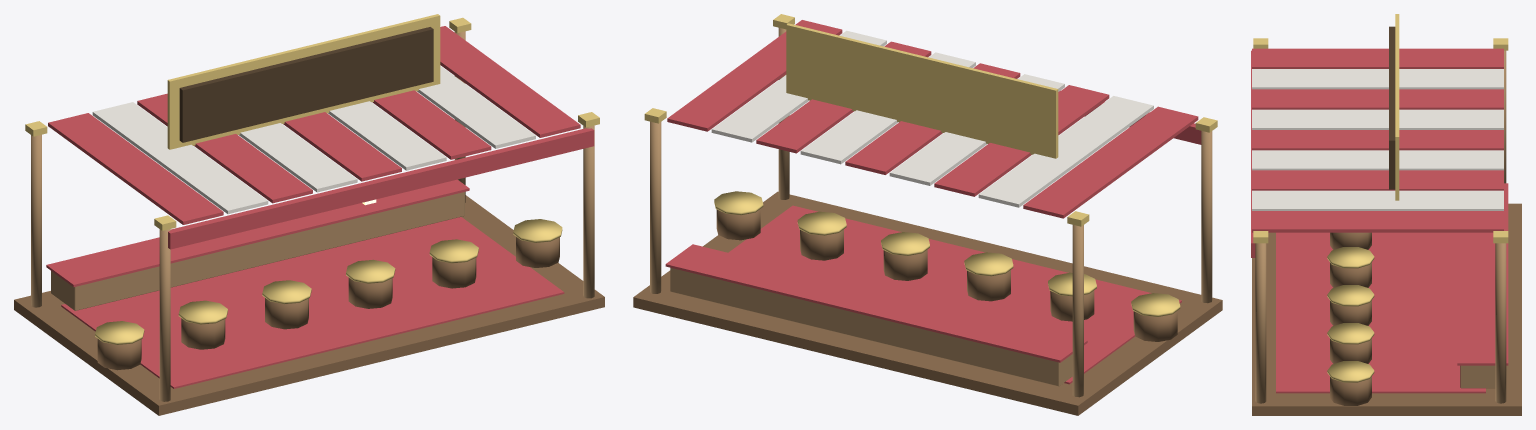
Rendered from VendorStall.glb.
The picture shows the model from 3 angles, left to right: view 1: azimuth 30°, elevation 25°; view 2: azimuth 150°, elevation 25°; view 3: azimuth 270°, elevation 25°; orthographic projection. The views are drawn at different scales.
Visible parts, largest first — view 1: Rug, Floor, Sign, Counter, Valence, Cloth, Stripe, Stripe.001, SignFrame, Stripe.008, Stripe.002, Stripe.007 (+19 smaller); view 2: Floor, SignFrame, Rug, Cloth, Counter, Stripe, Stripe.001, Stripe.008, Stripe.002, Stripe.007, Stripe.003, Stripe.006 (+18 smaller); view 3: Rug, Floor, Cloth, Stripe.008, Stripe.007, Stripe.006, Stripe, Stripe.001, Stripe.002, Stripe.003, Stripe.004, Stripe.005 (+16 smaller).
Boxes of the visible parts, x1,y1,x2,y2 form: Rug: (61, 217, 564, 388); Floor: (14, 195, 604, 415); Sign: (179, 27, 433, 142); Counter: (51, 192, 464, 310); Valence: (168, 128, 594, 249); Cloth: (46, 179, 469, 286); Stripe: (48, 113, 223, 224); Stripe.001: (92, 102, 268, 214); SignFrame: (167, 14, 440, 149); Stripe.008: (440, 26, 580, 137); Stripe.002: (137, 93, 312, 203); Stripe.007: (417, 66, 535, 148); Floor: (633, 191, 1222, 415); SignFrame: (786, 23, 1058, 158); Rug: (728, 205, 1181, 384); Cloth: (665, 244, 1087, 362); Counter: (670, 267, 1072, 386); Stripe: (1023, 106, 1198, 218); Stripe.001: (978, 96, 1153, 207); Stripe.008: (667, 20, 842, 131); Stripe.002: (934, 85, 1109, 196); Stripe.007: (711, 30, 886, 142); Stripe.003: (889, 74, 1064, 185); Stripe.006: (756, 41, 931, 153); Rug: (1276, 232, 1485, 393); Floor: (1252, 203, 1521, 415); Cloth: (1457, 183, 1508, 365); Stripe.008: (1252, 211, 1503, 232); Stripe.007: (1252, 190, 1503, 210); Stripe.006: (1252, 170, 1503, 190); Stripe: (1252, 48, 1503, 68); Stripe.001: (1252, 69, 1503, 89); Stripe.002: (1252, 89, 1503, 109); Stripe.003: (1252, 109, 1503, 129); Stripe.004: (1252, 130, 1503, 150); Stripe.005: (1252, 150, 1503, 170).
Bounding box in the file's own units: 16.48 × 8.79 × 9.03.
